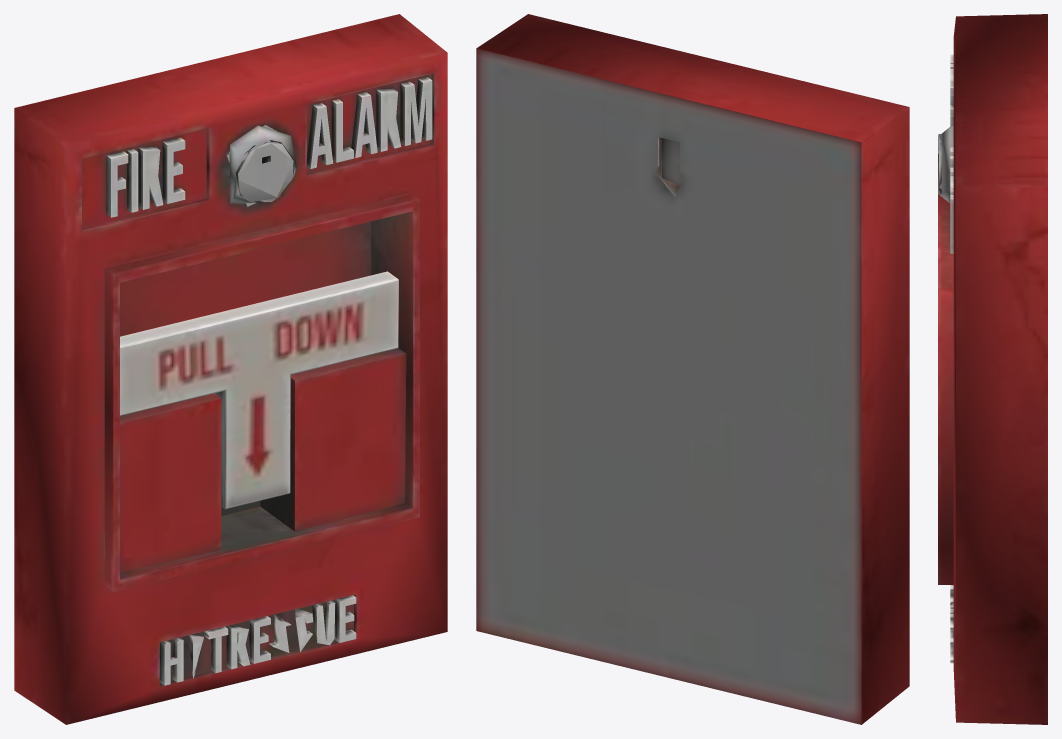
File: fireAlarm.glb
3 views of the same model, side by side, from view 1: azimuth 30°, elevation 25°; view 2: azimuth 150°, elevation 25°; view 3: azimuth 270°, elevation 25° (orthographic). The views are drawn at different scales.
Parts seen in each view (by area): view 1: fire_alarm, fire_alarm_lever; view 2: fire_alarm; view 3: fire_alarm.
Boxes of the visible parts, box(x1,y1,x2,y2) form: fire_alarm: box(14, 14, 447, 724); fire_alarm_lever: box(120, 271, 398, 509); fire_alarm: box(476, 14, 909, 724); fire_alarm: box(938, 14, 1047, 724).
Size of the model in its own units: 0.0984 by 0.1422 by 0.0264.
1 material, 1 textured.
